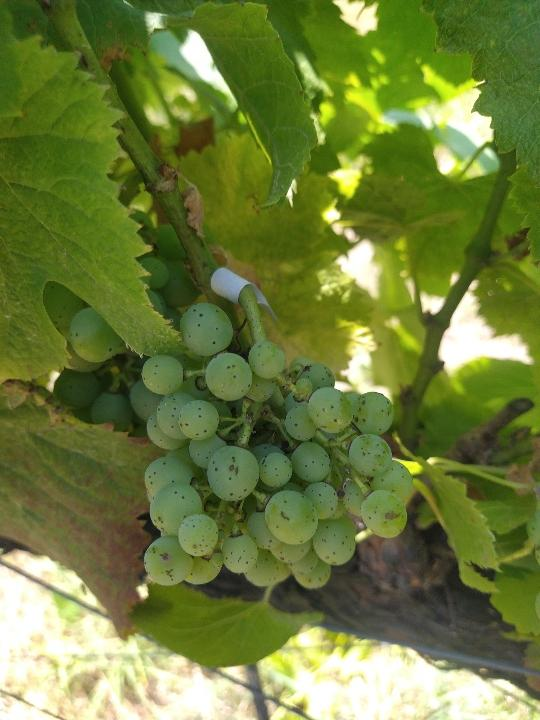grape: (71, 299, 415, 591)
